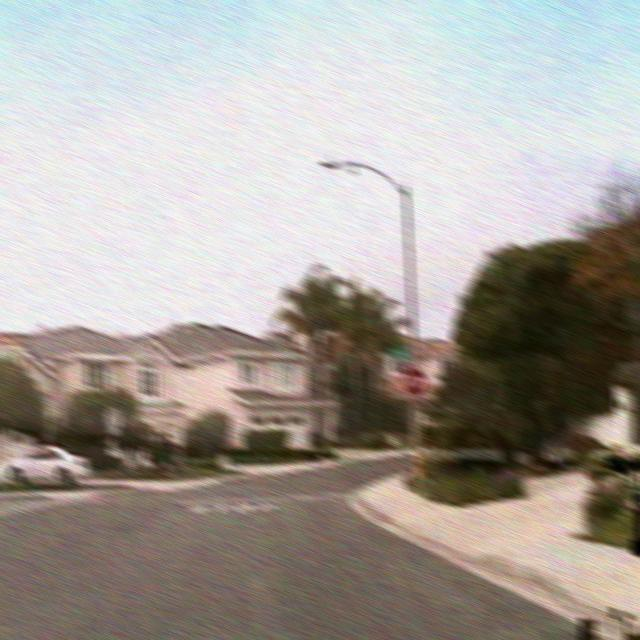stop_sign: (401, 365, 427, 398)
